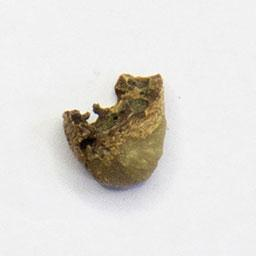defect: (60, 71, 170, 191)
